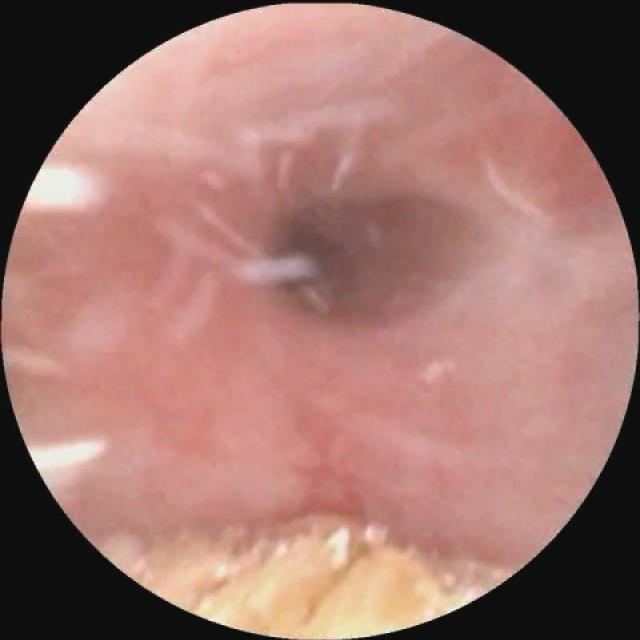stone: (118, 520, 514, 631)
tissue: (24, 8, 629, 543)
